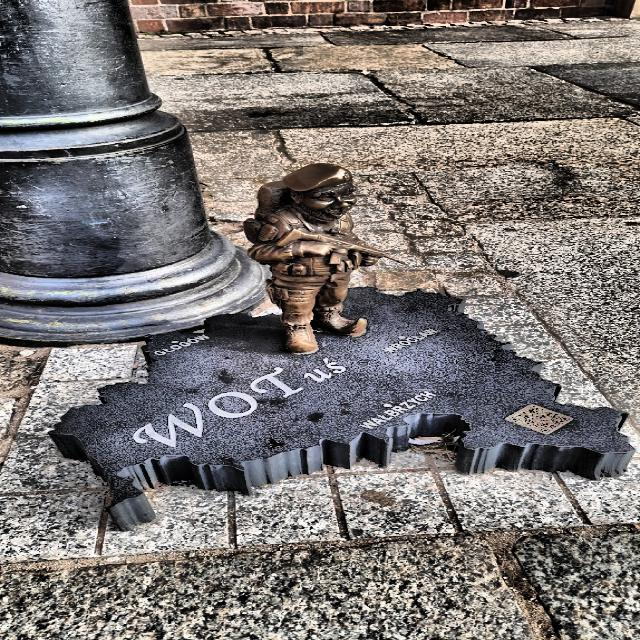WOTus: (244, 164, 404, 354)
